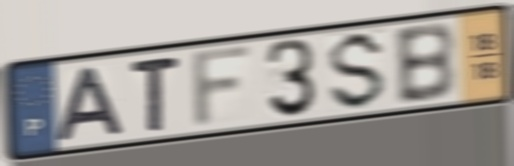3: (262, 37, 319, 121)
A: (54, 64, 128, 145)
B: (391, 20, 458, 108)
F: (189, 41, 258, 134)
S: (325, 28, 389, 113)
T: (128, 53, 183, 134)
